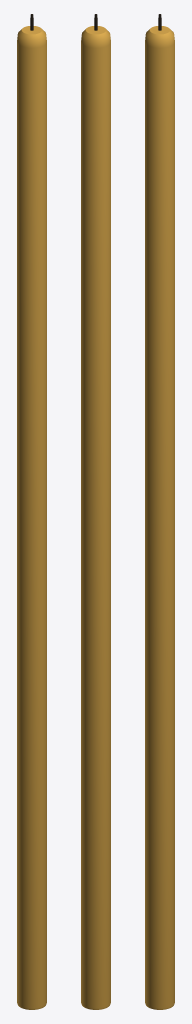
The model's file is candle.glb.
3 renders of one model, left to right at view 1: azimuth 90°, elevation 25°; view 2: azimuth 150°, elevation 25°; view 3: azimuth 270°, elevation 25°, orthographic.
Visible parts, largest first — view 1: Wax; view 2: Wax; view 3: Wax.
Part boxes in pixels (x1,y1,x2,y2): Wax: (17, 26, 46, 1009); Wax: (81, 26, 110, 1009); Wax: (145, 26, 174, 1009).
Bounding box in the file's own units: 0.007 × 0.254 × 0.007.
